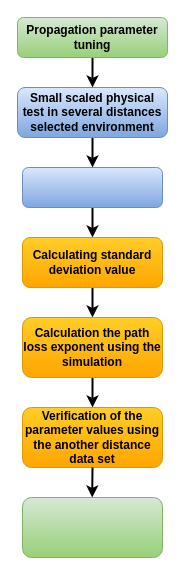
The diagram is 185 pixels wide and 575 high, and some of its shapes have lost their labels. The centre of each missing label's shape, as x and y in pixels:
Collection of RSSI Values: (x=92, y=187)
Selecting the suitable spreading factor and separation: (x=92, y=527)
